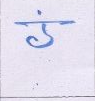anusvara: (37, 10, 42, 15)
